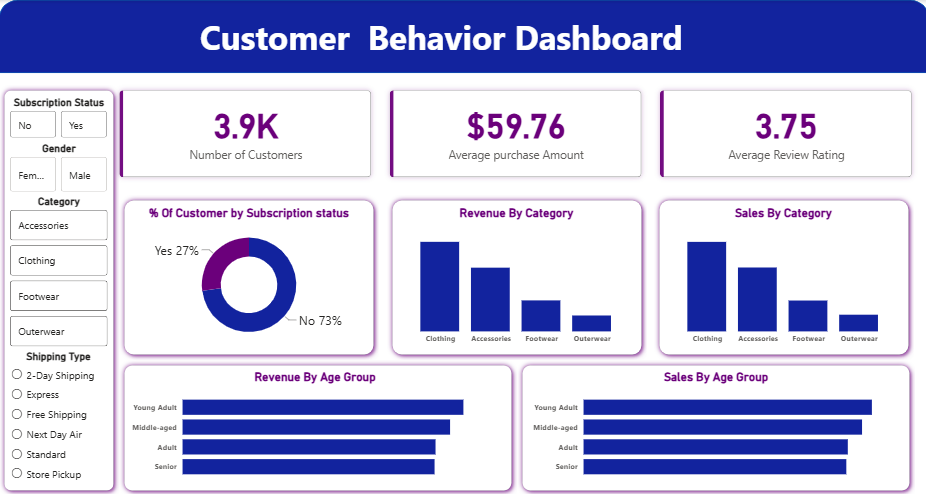

The page's visual inventory and layout, read from the dashboard file:
{"tool":"powerbi","page":{"name":"Page 1","canvas":[1500,800],"ordinal":0},"visuals":[{"type":"cardVisual","fields":{"Data":["customer_behavior customer.Number of Customers","customer_behavior customer.Average purchase Amount","customer_behavior customer.Average Review Rating"]},"box":[165.4,118.1,1334.6,196.9],"z":0},{"type":"shape","box":[0,0,1500,118.1],"z":1000},{"type":"textbox","box":[110.2,17.7,1222.4,82.7],"z":2000},{"type":"shape","box":[193.5,314.5,419.4,266.1],"z":3000},{"type":"donutChart","title":"% Of Customer  by Subscription  status","fields":{"Category":["customer_behavior customer.subscription_status"],"Y":["CountNonNull(customer_behavior customer.customer_id)"]},"box":[222.6,332.3,361.3,232.3],"z":4000},{"type":"shape","box":[1056.5,314.5,419.4,266.1],"z":5000},{"type":"shape","box":[625.8,314.5,419.4,266.1],"z":6000},{"type":"clusteredColumnChart","title":"Revenue By Category ","fields":{"Y":["Sum(customer_behavior customer.purchase_amount)"],"Category":["customer_behavior customer.category"]},"box":[641.9,332.3,385.5,232.3],"z":7000},{"type":"clusteredColumnChart","title":"Sales By Category ","fields":{"Y":["CountNonNull(customer_behavior customer.customer_id)"],"Category":["customer_behavior customer.category"]},"box":[1072.6,332.3,385.5,232.3],"z":8000},{"type":"shape","box":[0,137.1,193.5,662.9],"z":9000},{"type":"advancedSlicerVisual","title":"Subscription Status","fields":{"Values":["customer_behavior customer.subscription_status"]},"box":[12.9,154.8,167.7,72.6],"z":10000},{"type":"advancedSlicerVisual","title":"Gender","fields":{"Values":["customer_behavior customer.gender"]},"box":[12.9,229,167.7,85.5],"z":11000},{"type":"advancedSlicerVisual","title":"Category","fields":{"Values":["customer_behavior customer.category"]},"box":[12.9,314.5,167.7,250],"z":12000},{"type":"listSlicer","title":"Shipping Type","fields":{"Values":["customer_behavior customer.shipping_type"]},"box":[14.5,564.5,162.9,219.4],"z":13000},{"type":"shape","box":[193.5,580.6,641.9,219.4],"z":13002},{"type":"clusteredBarChart","title":"Revenue By Age Group ","fields":{"Y":["Sum(customer_behavior customer.purchase_amount)"],"Category":["customer_behavior customer.age_group"]},"box":[208.1,596.8,603.2,187.1],"z":13003},{"type":"shape","box":[835.5,580.6,641.9,219.4],"z":13004},{"type":"clusteredBarChart","title":"Sales By Age Group ","fields":{"Y":["Sum(customer_behavior customer.customer_id)"],"Category":["customer_behavior customer.age_group"]},"box":[854.8,596.8,603.2,187.1],"z":13005}]}

Visuals, with their boxes in screenshot pixels (x1, y1, x2, y2), scaled from the page's 1500x800 canvas onto the 926x494 screenshot:
cardVisual - customer_behavior customer.Number of Customers x customer_behavior customer.Average purchase Amount: x1=102 y1=73 x2=925 y2=195
shape: x1=0 y1=0 x2=925 y2=73
textbox: x1=68 y1=11 x2=823 y2=62
shape: x1=119 y1=194 x2=378 y2=359
"% Of Customer  by Subscription  status" donutChart: x1=137 y1=205 x2=360 y2=349
shape: x1=652 y1=194 x2=911 y2=359
shape: x1=386 y1=194 x2=645 y2=359
"Revenue By Category " clusteredColumnChart: x1=396 y1=205 x2=634 y2=349
"Sales By Category " clusteredColumnChart: x1=662 y1=205 x2=900 y2=349
shape: x1=0 y1=85 x2=119 y2=493
"Subscription Status" advancedSlicerVisual: x1=8 y1=96 x2=111 y2=140
"Gender" advancedSlicerVisual: x1=8 y1=141 x2=111 y2=194
"Category" advancedSlicerVisual: x1=8 y1=194 x2=111 y2=349
"Shipping Type" listSlicer: x1=9 y1=349 x2=110 y2=484
shape: x1=119 y1=359 x2=516 y2=493
"Revenue By Age Group " clusteredBarChart: x1=128 y1=369 x2=501 y2=484
shape: x1=516 y1=359 x2=912 y2=493
"Sales By Age Group " clusteredBarChart: x1=528 y1=369 x2=900 y2=484
